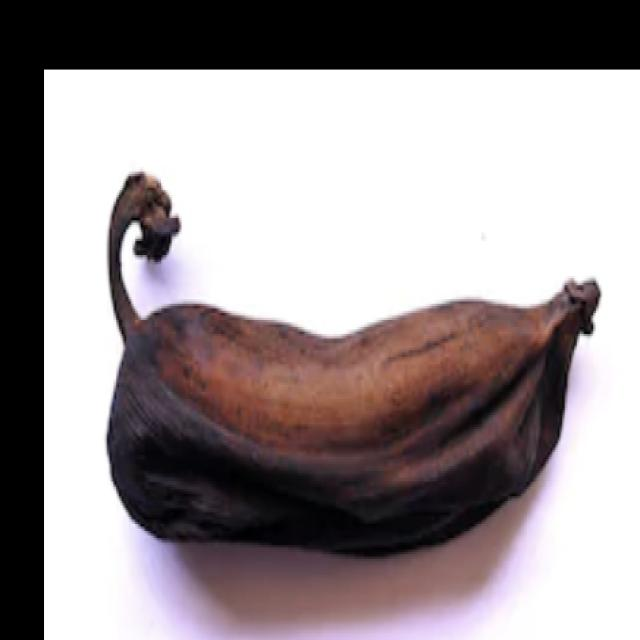Rotten: (85, 164, 612, 571)
